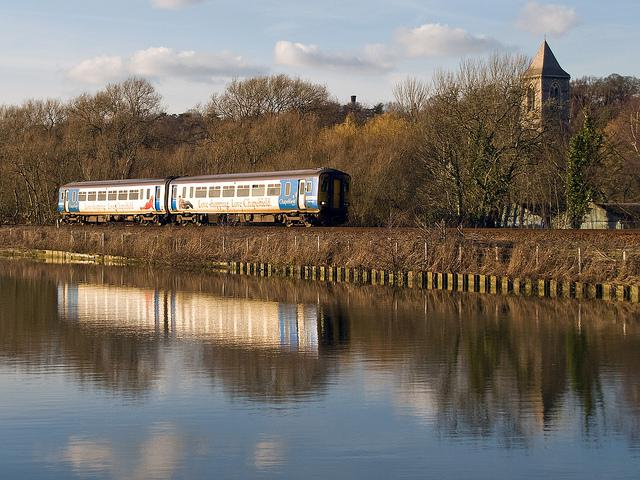Train: (57, 169, 353, 227)
